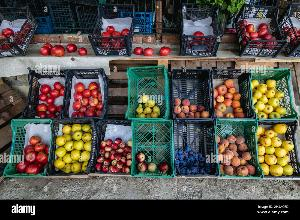apple: (235, 4, 294, 54), (49, 118, 94, 174), (184, 2, 228, 56), (260, 123, 300, 180), (7, 121, 45, 181), (254, 66, 296, 120), (214, 70, 255, 120), (68, 72, 108, 123), (136, 122, 172, 174), (32, 70, 66, 122), (92, 15, 132, 53), (0, 13, 34, 47)
peach: (172, 70, 212, 118), (97, 128, 133, 174)
pear: (130, 72, 166, 118)
plum: (174, 122, 216, 176)
